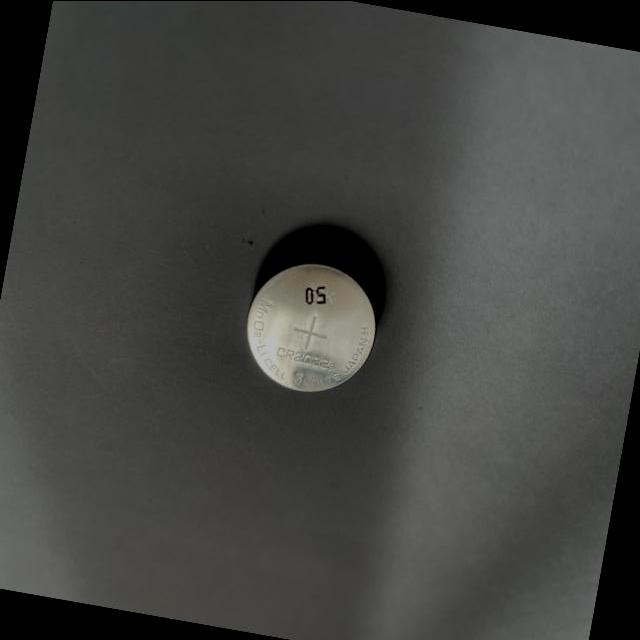COIN: (234, 244, 388, 403)
